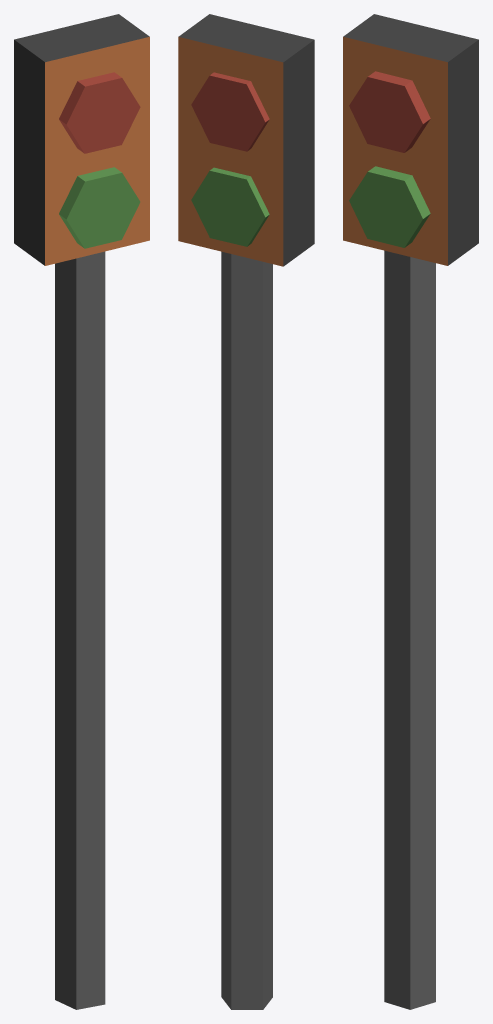
File: pillar_001.glb
3 renders of one model, left to right at view 1: azimuth 30°, elevation 25°; view 2: azimuth 150°, elevation 25°; view 3: azimuth 330°, elevation 25°, orthographic.
Parts seen in each view (by area): view 1: pillar_001; view 2: pillar_001; view 3: pillar_001.
Part boxes in pixels (left/top/right/bottom): pillar_001: left=14, top=14, right=149, bottom=1009; pillar_001: left=178, top=14, right=314, bottom=1009; pillar_001: left=343, top=14, right=478, bottom=1009.
Size of the model in its own units: 0.3204 by 2.81 by 0.2282.
1 material, 1 textured.
